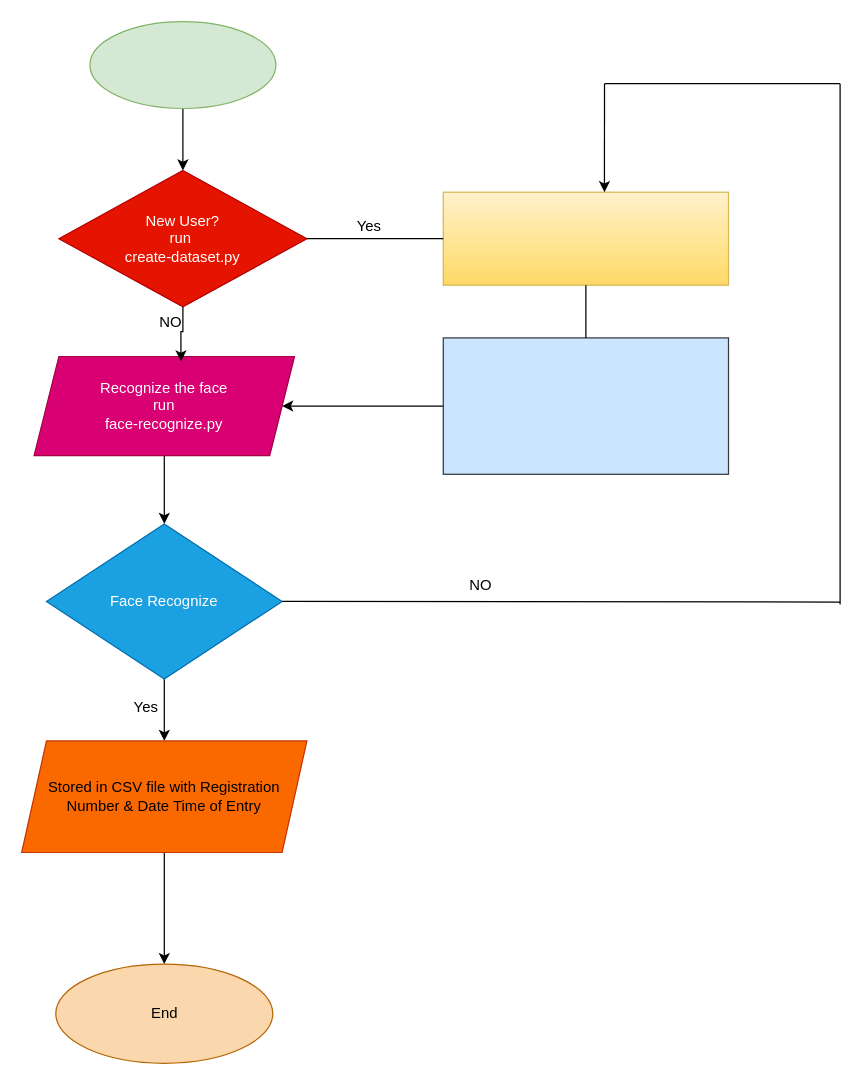
This 863x1085 diagram has some shape labels left out. Each missing label, with the centre of its shape:
"Give your Photograph" goes at pixel 585 238.
"Start" goes at pixel 182 64.
"Store the face data in folder on your name" goes at pixel 585 405.
